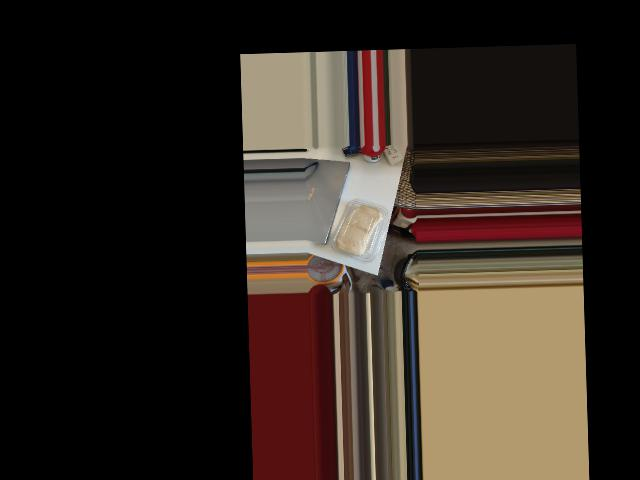cheese: (329, 195, 390, 268)
